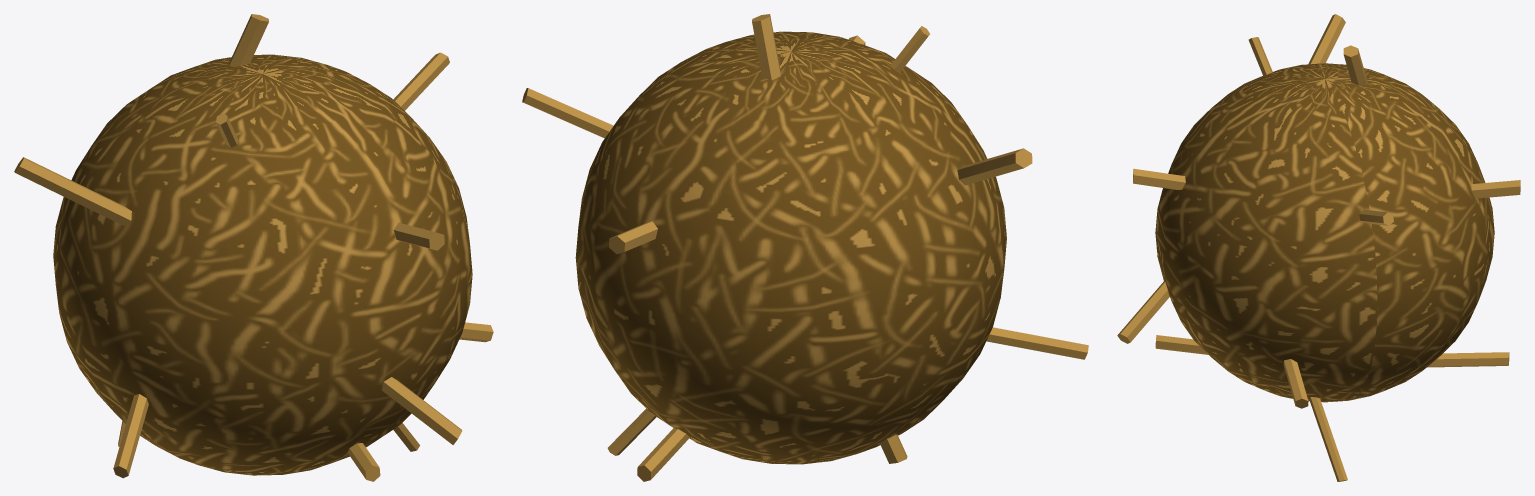
File: Tumbleweed.fbx
3 renders of one model, left to right at view 1: azimuth 30°, elevation 25°; view 2: azimuth 150°, elevation 25°; view 3: azimuth 270°, elevation 25°, orthographic. The views are drawn at different scales.
Visible parts, largest first — view 1: Tumbleweed; view 2: Tumbleweed; view 3: Tumbleweed.
Boxes of the visible parts, box(x1,y1,x2,y2) form: Tumbleweed: box(14, 14, 493, 481); Tumbleweed: box(522, 14, 1088, 481); Tumbleweed: box(1117, 14, 1520, 481).
Size of the model in its own units: 0.6641 by 0.6385 by 0.6202.
